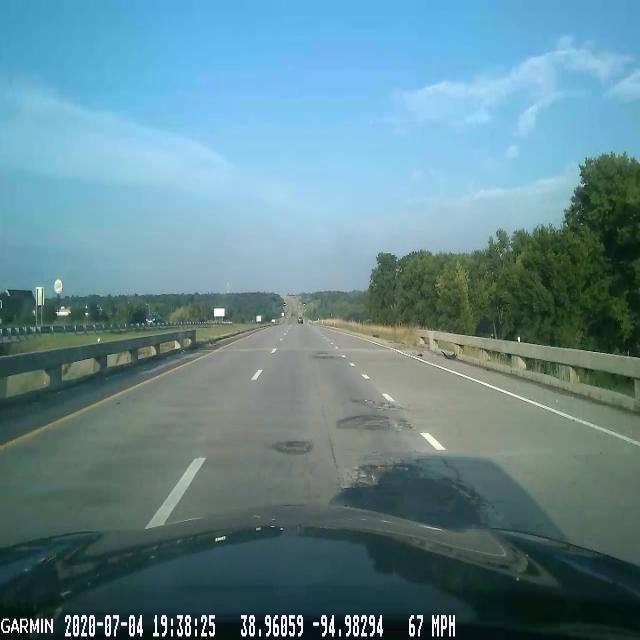Pothole: (330, 459, 500, 519), (336, 405, 418, 442), (268, 426, 320, 460)
